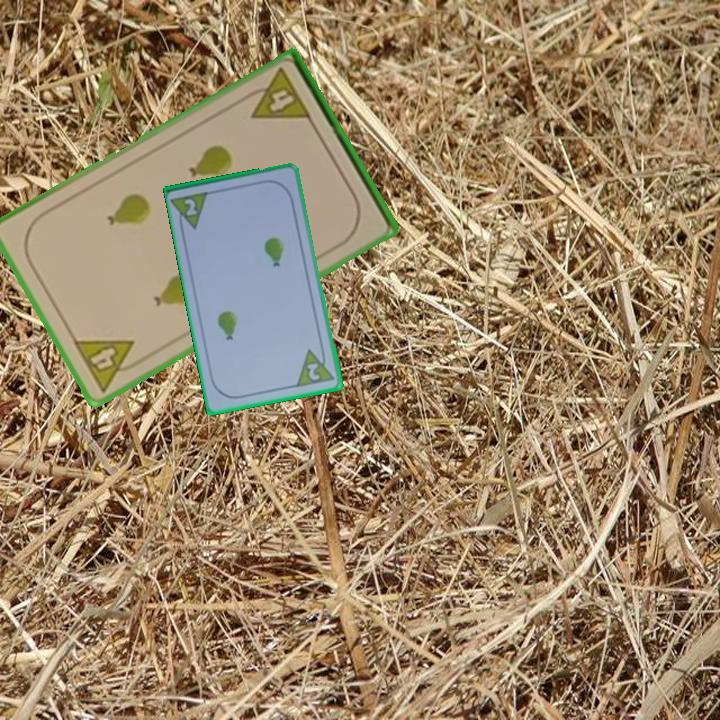2p: (181, 195, 200, 219), (304, 360, 323, 383)
4p: (69, 336, 147, 396), (239, 65, 315, 124)
